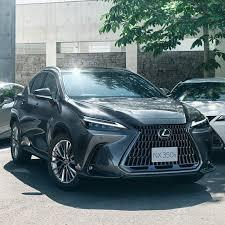lexus: (156, 127, 173, 139)
